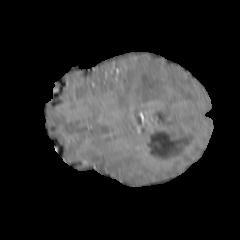glioma: (115, 61, 197, 128)
